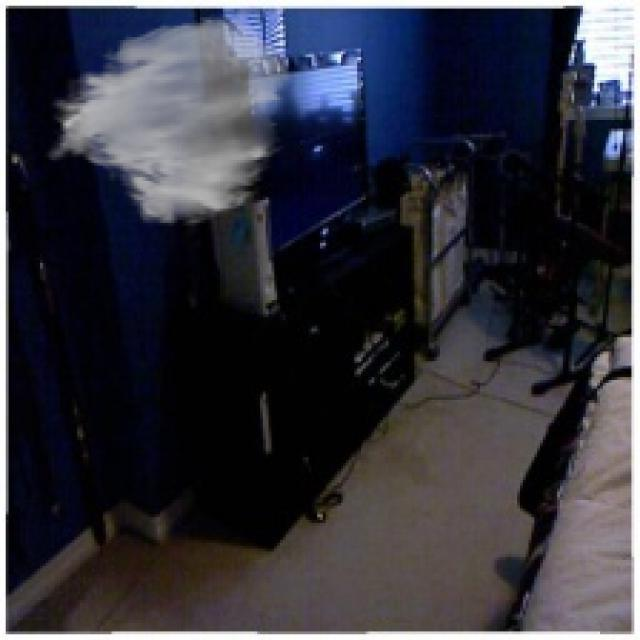Smoke: (43, 14, 294, 229)
